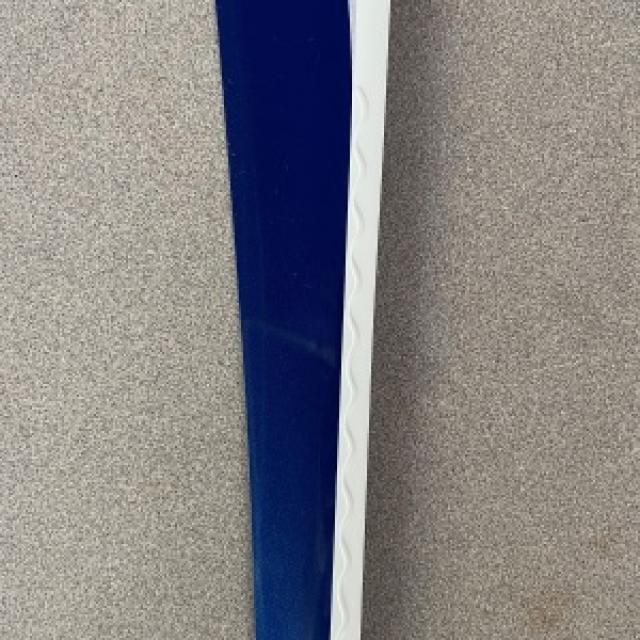healthy: (215, 0, 388, 638)
